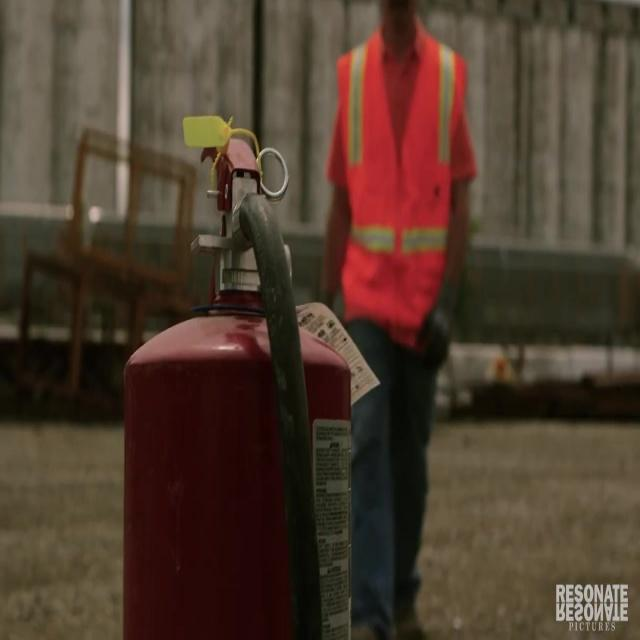vest: (334, 36, 469, 433)
